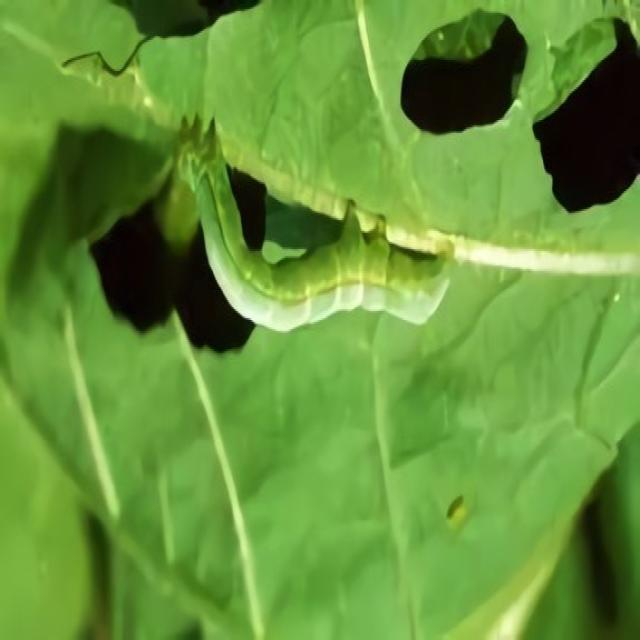worm: (176, 115, 462, 343)
